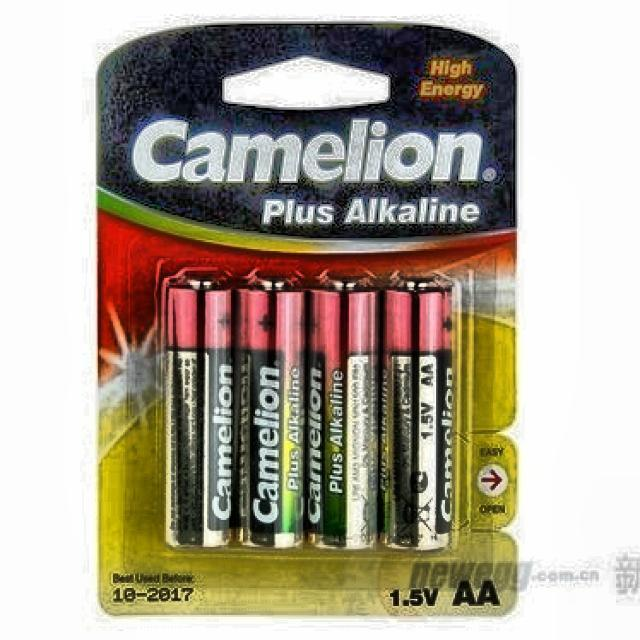battery: (309, 283, 380, 548), (236, 280, 306, 547), (381, 284, 451, 549), (166, 279, 233, 545)
